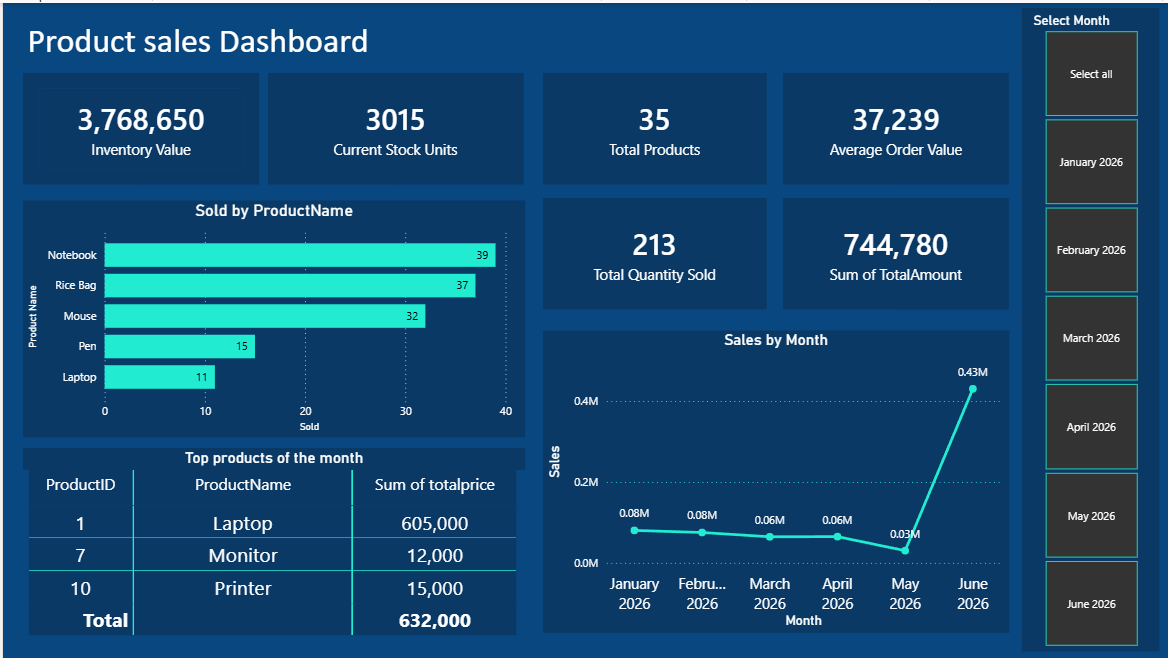

The page's visual inventory and layout, read from the dashboard file:
{"tool":"powerbi","page":{"name":"Page 1","canvas":[1280,720],"ordinal":0},"visuals":[{"type":"cardVisual","fields":{"Data":["CountNonNull(vw_InventoryReport.ProductID)"]},"box":[592.8,76.8,245.6,122.1],"z":0},{"type":"cardVisual","fields":{"Data":["Sum(vw_InventoryReport.StockQuantity)"]},"box":[290.8,77,280.8,122.6],"z":1000},{"type":"clusteredBarChart","title":"Sold by Product ","fields":{"Category":["vw_ProductSales.ProductName"],"Y":["Sum(vw_ProductSales.TotalSold)"]},"box":[21.4,217.1,551.4,260],"z":2000},{"type":"textbox","box":[21.4,14.3,419.1,62.7],"z":3000},{"type":"slicer","fields":{"Values":["Orders.Month Slider"]},"box":[1118.4,5.5,150.9,706.7],"z":4000},{"type":"cardVisual","fields":{"Data":["OrderItems.Sum of TotalAmount divided by Count of OrderID"]},"box":[856.3,76.8,248.4,122.1],"z":5000},{"type":"cardVisual","fields":{"Data":["Sum(Orders.TotalAmount)"]},"box":[856.3,214.1,248.4,122.1],"z":6000},{"type":"cardVisual","fields":{"Data":["Sum(OrderItems.Quantity)"]},"box":[592.8,214.1,245.6,122.1],"z":7000},{"type":"lineChart","title":"Sales by Month","fields":{"Category":["vw_Monthly_Revenue.timeline"],"Y":["Sum(vw_Monthly_Revenue.TotalSales)"]},"box":[592.8,359.5,511.8,332.1],"z":8000},{"type":"cardVisual","fields":{"Data":["Sum(Products.TotalProductCost)"]},"box":[22,76.8,259.3,122.1],"z":9000},{"type":"tableEx","title":"Top products of the month","fields":{"Values":["OrderItems.ProductID","Products.ProductName","Sum(OrderItems.totalprice)"]},"box":[22,488.5,550.3,214.1],"z":10000}]}

Visuals, with their boxes in screenshot pixels (x1, y1, x2, y2), scaled from the page's 1280x720 canvas onto the 1168x658 screenshot:
cardVisual - CountNonNull(vw_InventoryReport.ProductID): {"left": 541, "top": 70, "right": 765, "bottom": 182}
cardVisual - Sum(vw_InventoryReport.StockQuantity): {"left": 265, "top": 70, "right": 522, "bottom": 182}
"Sold by Product " clusteredBarChart: {"left": 20, "top": 198, "right": 523, "bottom": 436}
textbox: {"left": 20, "top": 13, "right": 402, "bottom": 70}
slicer - Orders.Month Slider: {"left": 1021, "top": 5, "right": 1158, "bottom": 651}
cardVisual - OrderItems.Sum of TotalAmount divided by Count of OrderID: {"left": 781, "top": 70, "right": 1008, "bottom": 182}
cardVisual - Sum(Orders.TotalAmount): {"left": 781, "top": 196, "right": 1008, "bottom": 307}
cardVisual - Sum(OrderItems.Quantity): {"left": 541, "top": 196, "right": 765, "bottom": 307}
"Sales by Month" lineChart: {"left": 541, "top": 329, "right": 1008, "bottom": 632}
cardVisual - Sum(Products.TotalProductCost): {"left": 20, "top": 70, "right": 257, "bottom": 182}
"Top products of the month" tableEx: {"left": 20, "top": 446, "right": 522, "bottom": 642}
